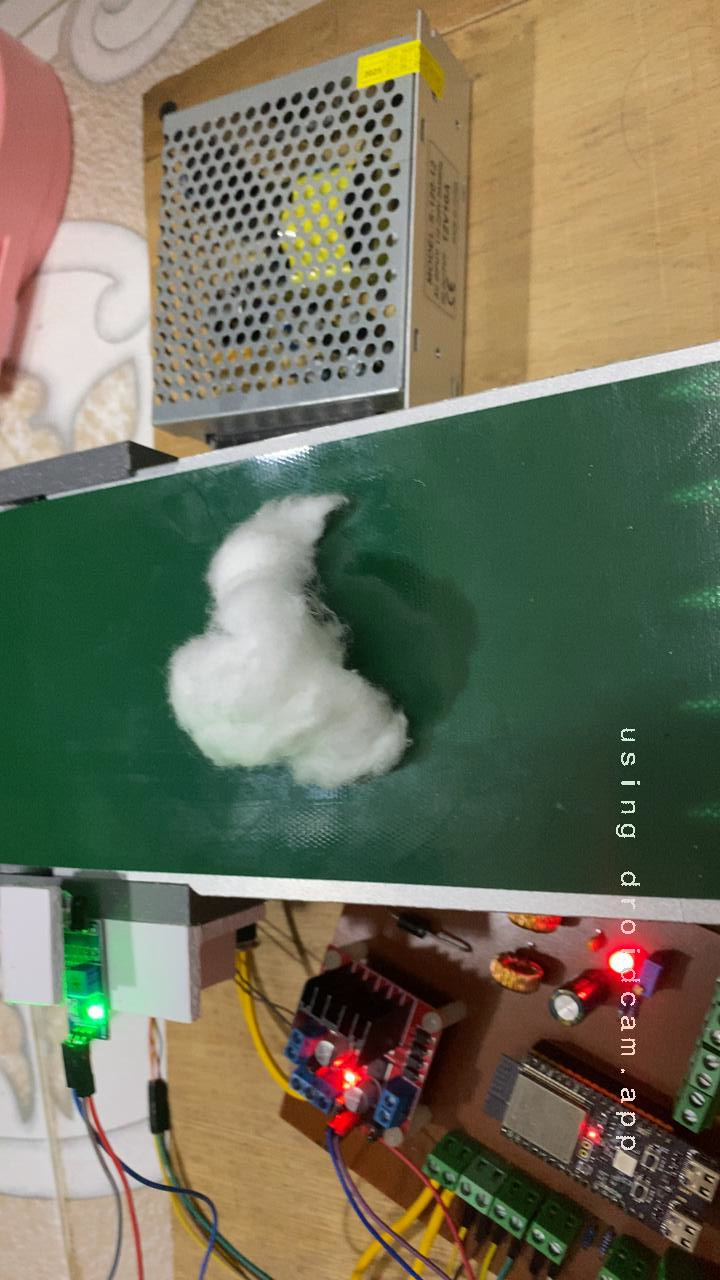cotton: (134, 465, 439, 811)
